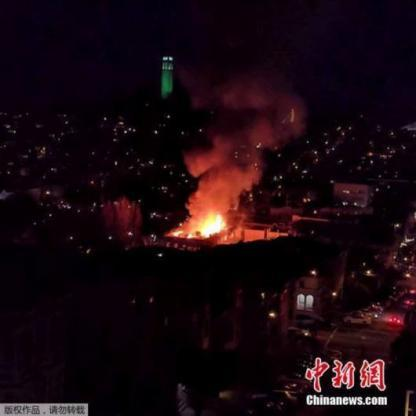fire: (182, 205, 230, 245)
